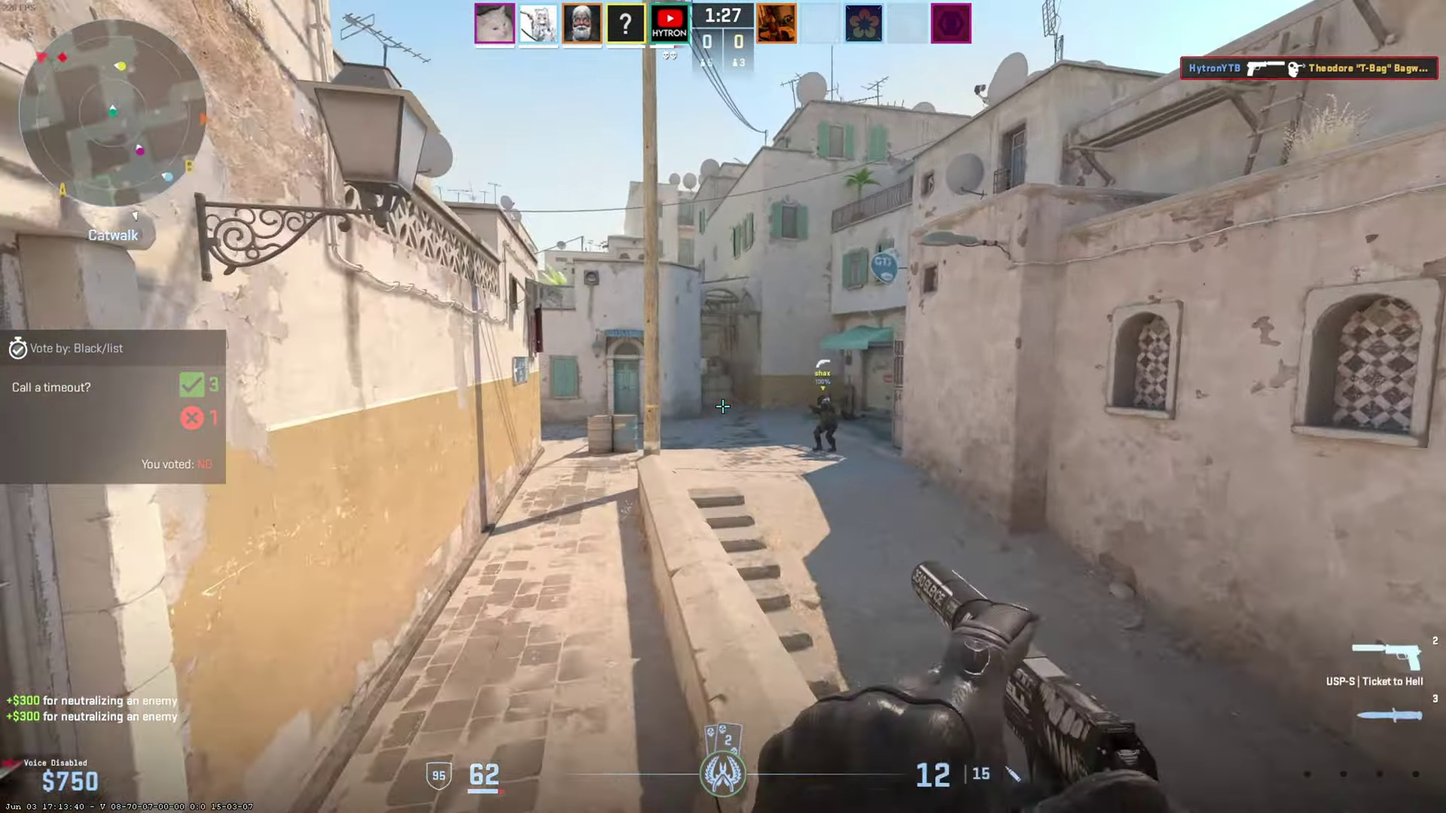CT: (813, 395, 836, 452)
